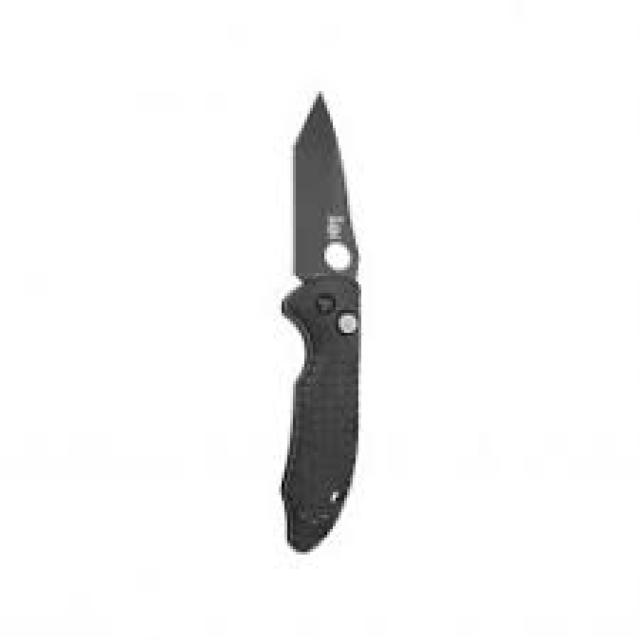knives: (270, 85, 367, 558)
